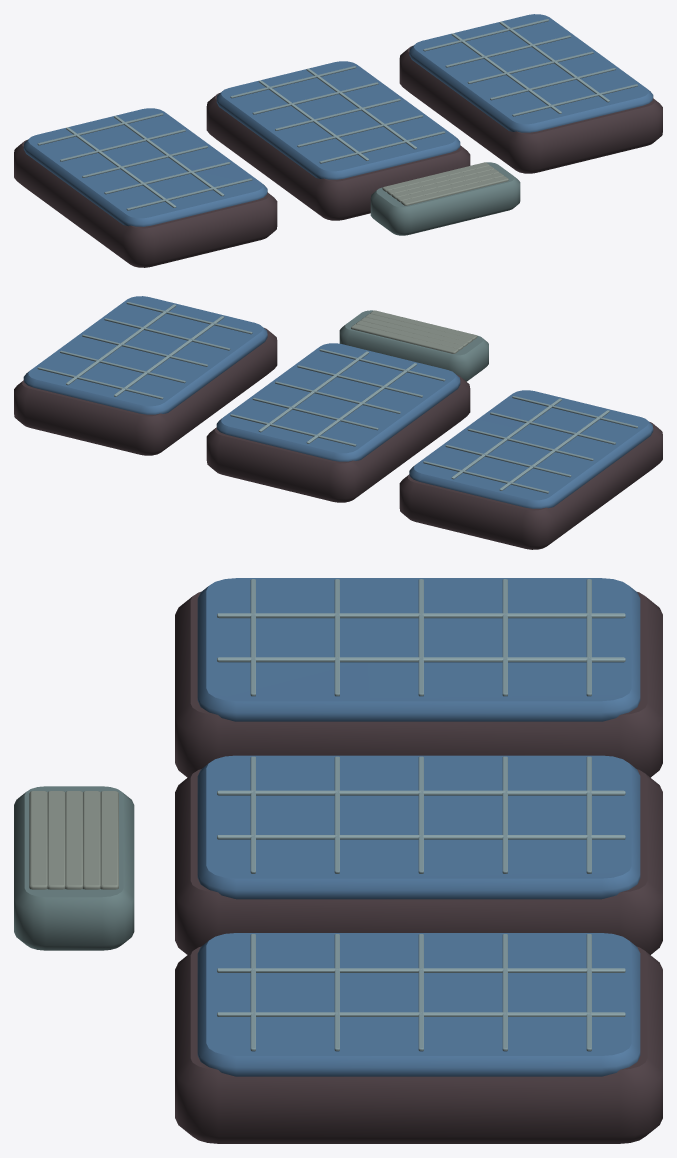
File: alpine_motel_3.glb
The picture shows the model from 3 angles, top to bottom: view 1: azimuth 30°, elevation 25°; view 2: azimuth 150°, elevation 25°; view 3: azimuth 270°, elevation 25°; orthographic projection. The views are drawn at different scales.
Parts seen in each view (by area): view 1: Motel3; view 2: Motel3; view 3: Motel3.
Part boxes in pixels (x1,y1,x2,y2): Motel3: (14,14,662,267); Motel3: (14,296,662,549); Motel3: (14,578,662,1143).
Size of the model in its own units: 5.15 by 0.436 by 2.86.
